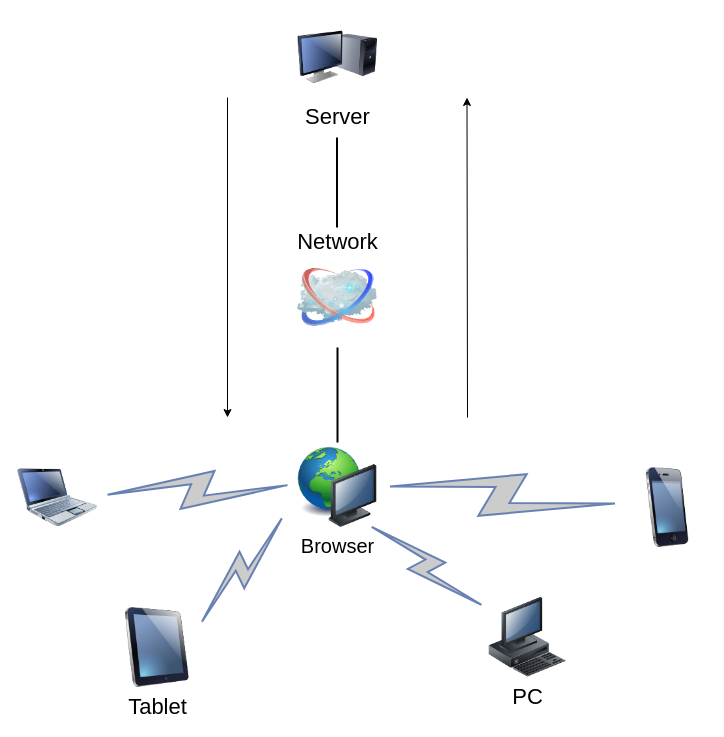
Some shapes in this 724 by 737 pixel diagram are drawn without their labels. Each missing label, with the centre of its shape:
"Laptop" goes at pixel 57 497.
"Mobile" goes at pixel 667 507.
